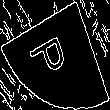P_NE: (31, 27, 79, 82)
